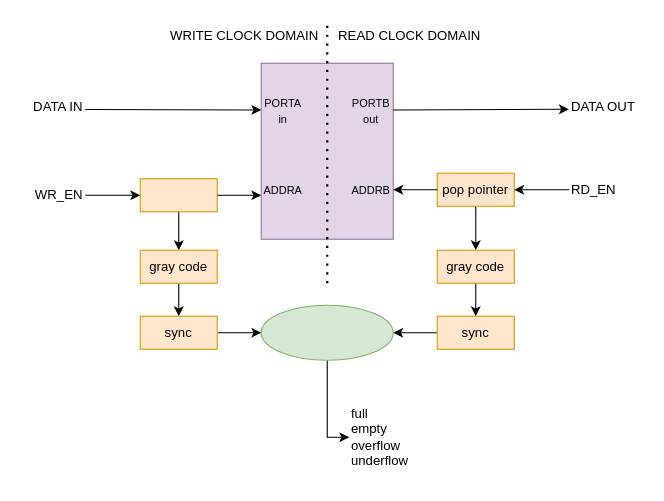
Some shapes in this 664 by 501 pixel diagram are drawn without their labels. Here are the shapes that lost their labels. From the top down, the box of each, then its label:
(260, 62, 393, 239): BRAM
(139, 178, 217, 212): push pointer
(260, 304, 393, 360): flags
